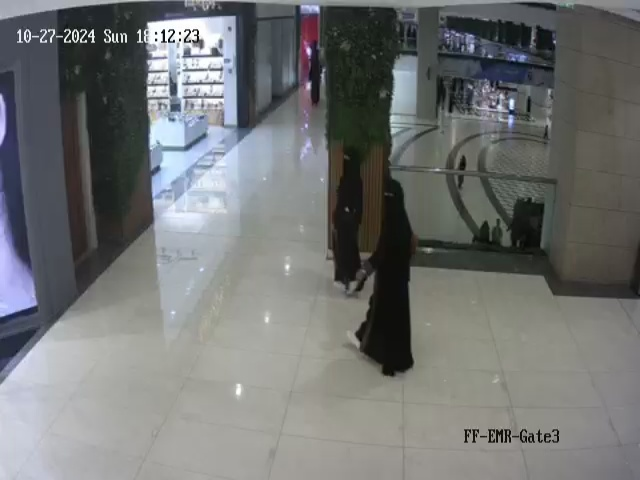female: (351, 167, 418, 377), (317, 136, 367, 298), (303, 36, 325, 112), (473, 206, 491, 259), (453, 149, 468, 188)
male: (492, 209, 506, 250)
